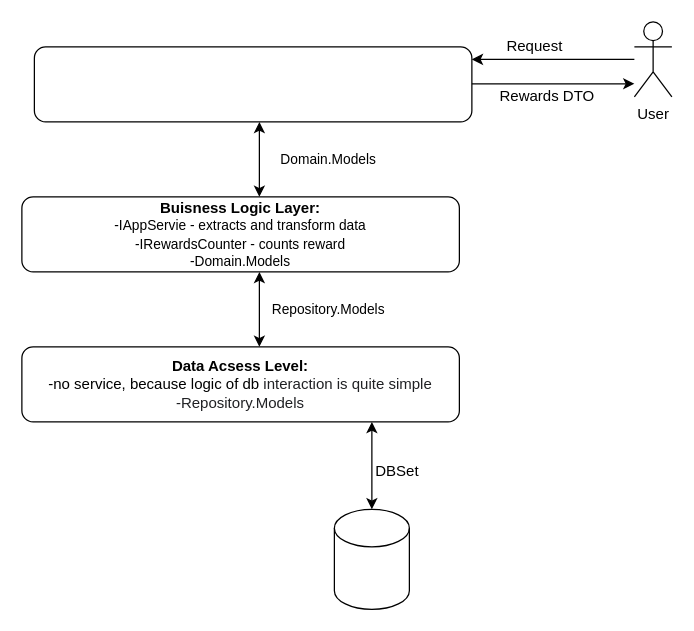
This 694x631 diagram has some shape labels left out. Each missing label, with the centre of its shape:
API: -Controllers -Dtos: point (252, 84)
mssql: point (371, 558)
